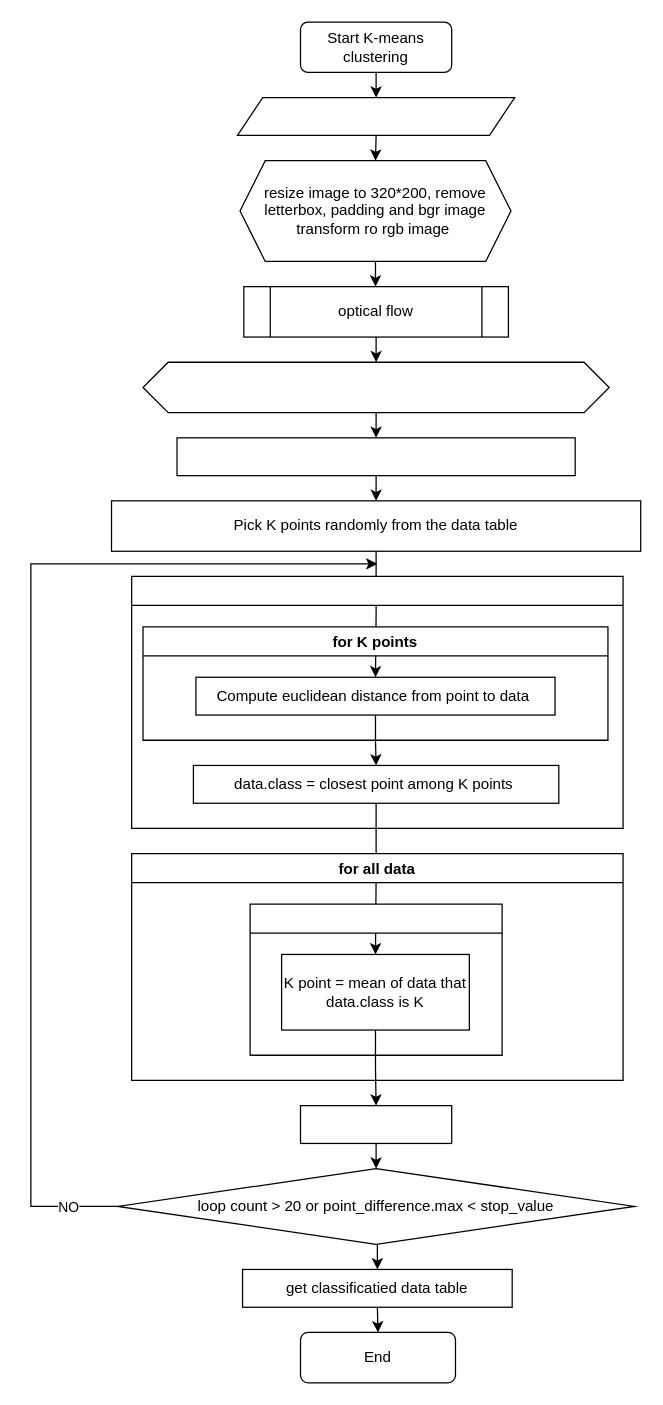
This 663x1405 diagram has some shape labels left out. The box of each missing label's shape, as (x1, y1, x2, y2) in pixels:
data normalization to 0~1: (176, 437, 575, 476)
for all data in data table: (130, 575, 623, 828)
for data.class: (249, 903, 502, 1055)
Input image t and t+1 frame: (236, 96, 515, 135)
loop count += 1: (299, 1104, 452, 1143)
Make Data table(x, y, r value, g value, b value, v, u, class): (142, 361, 609, 413)
